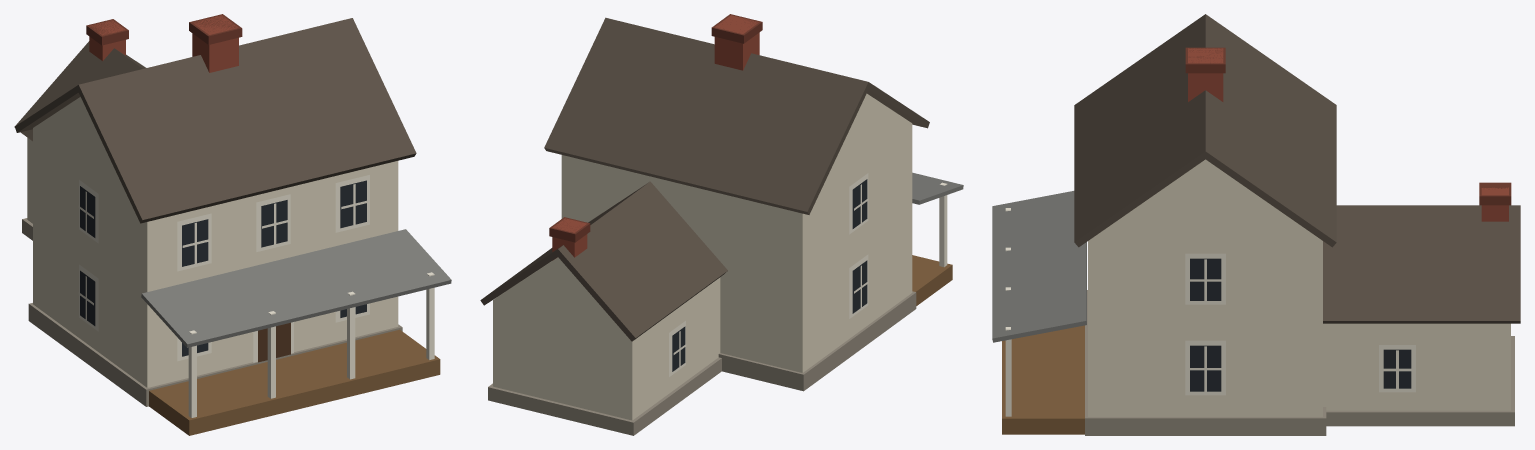
Rendered from house_b.glb.
The picture shows the model from 3 angles, left to right: view 1: azimuth 30°, elevation 25°; view 2: azimuth 150°, elevation 25°; view 3: azimuth 270°, elevation 25°; orthographic projection. The views are drawn at different scales.
Parts seen in each view (by area): view 1: house_b; view 2: house_b; view 3: house_b.
Part boxes in pixels (<box>): house_b: <box>14,14,451,435</box>; house_b: <box>480,14,963,435</box>; house_b: <box>992,14,1520,435</box>.
Bounding box in the file's own units: 8.3 × 8.9 × 13.5.
